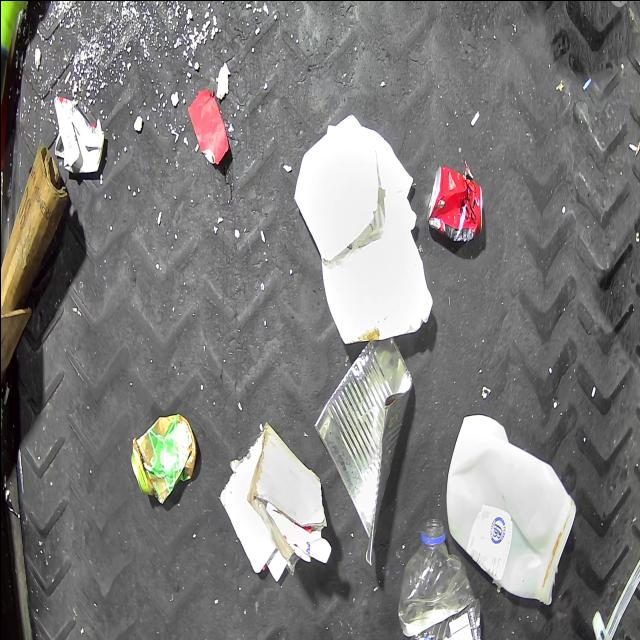can: (426, 164, 482, 243)
milk_jug: (444, 412, 576, 604)
plastic_bottle: (396, 514, 484, 640)
